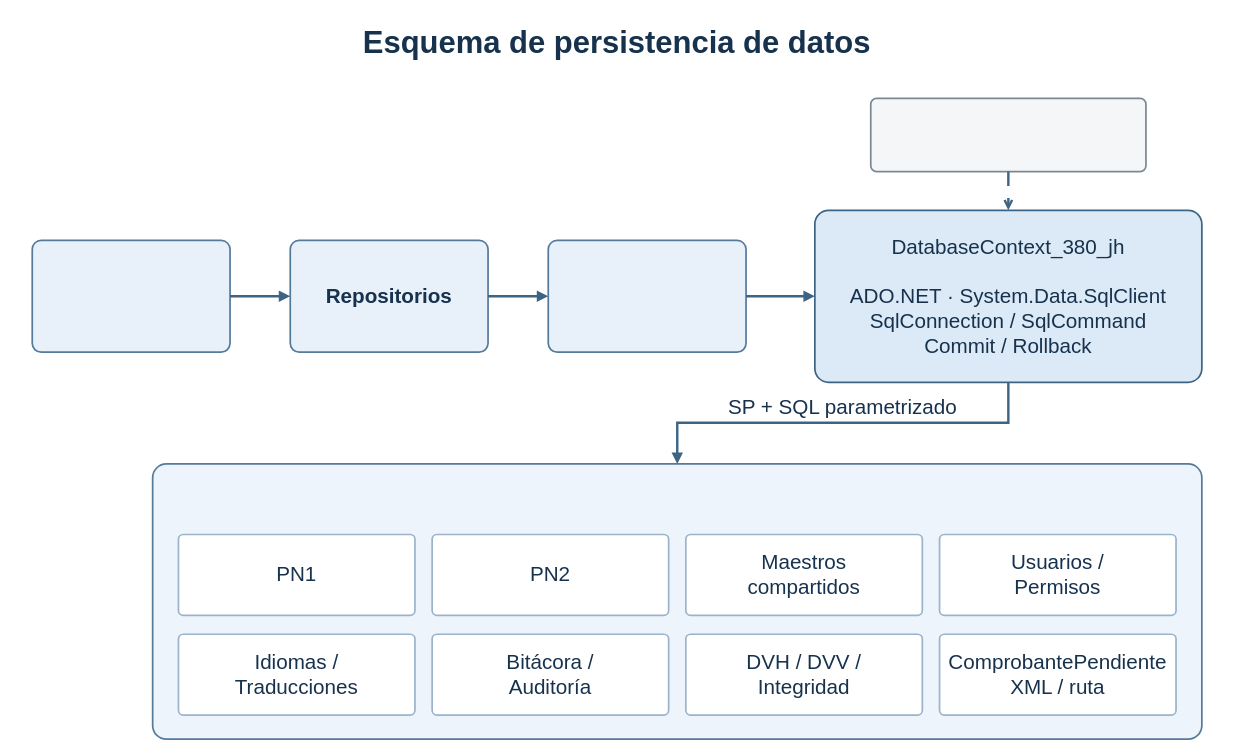
This 1233x754 diagram has some shape labels left out. Here are the shapes that lost their labels. From the top down, the box of each, then its label:
(869, 97, 1146, 172): Configuración local de conexión
(31, 239, 230, 353): Servicios de aplicación
(547, 239, 746, 353): DataMappers DAL
(151, 463, 1202, 740): SQL Server · HemovidaGest · dbo
